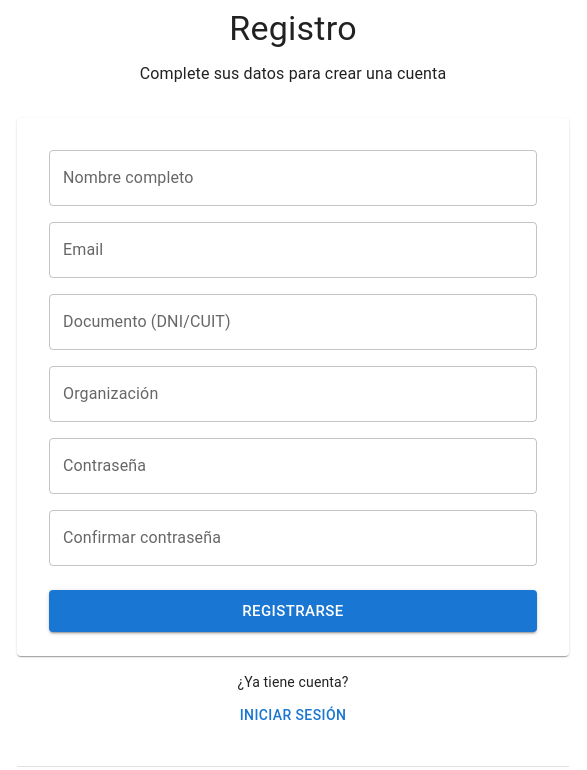
ExternoRegistroPage › confirmation must match
Type "Test User" into the field labelled "Nombre completo". click: point(293, 178)
box: [49,150,537,206]
Type "test@test.com" into the field labelled "Email". click: point(293, 250)
box: [49,222,537,278]
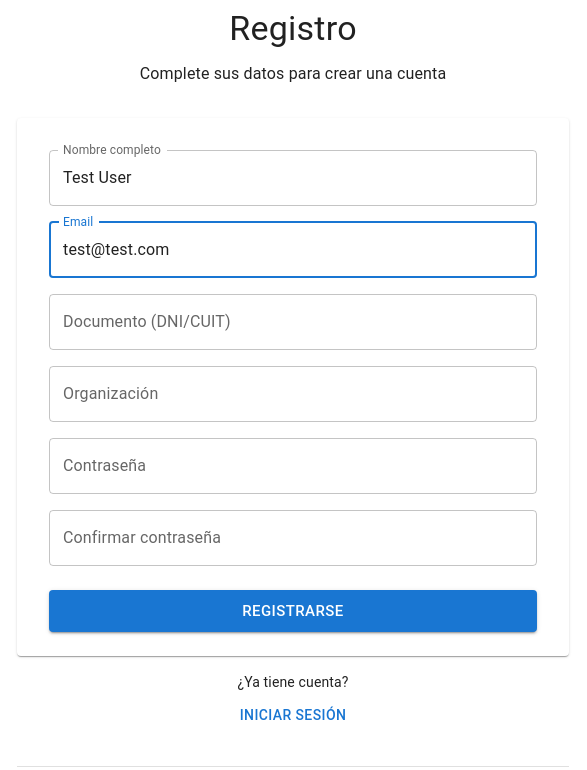
Type "12345678" into the field labelled "Documento (DNI/CUIT)". click: point(293, 322)
box: [49,294,537,350]
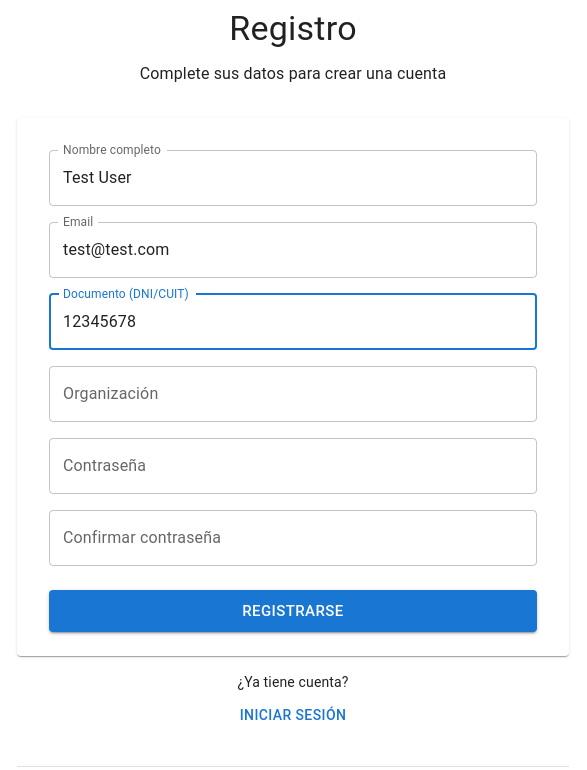
Type "Test Org" into the field labelled "Organización". click: point(293, 394)
box: [49,366,537,422]
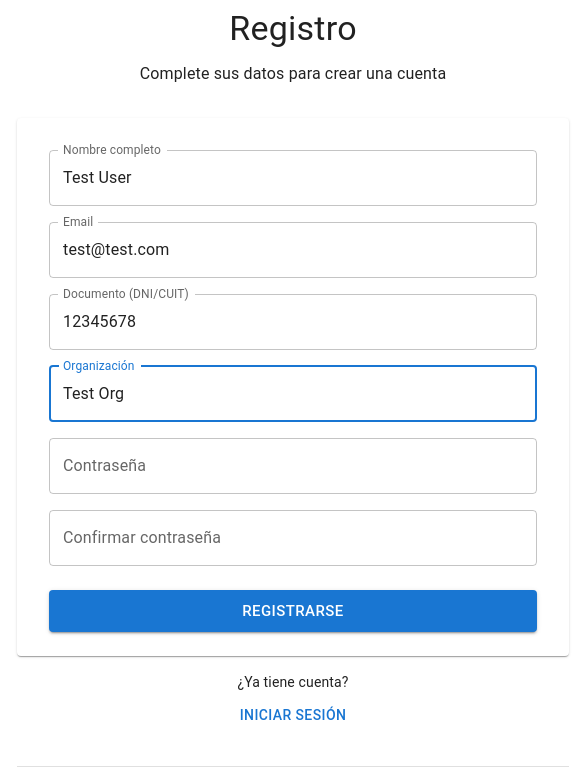
Type "Password1!" into the password field labelled "Contraseña". click: point(293, 466)
box: [49,438,537,494]
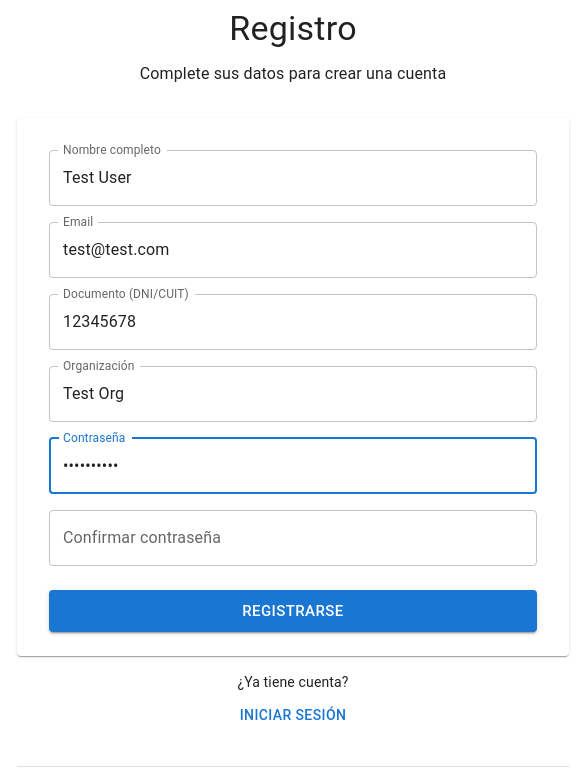
Type "Different1!" into the password field labelled "Confirmar contraseña". click: point(293, 538)
box: [49,510,537,566]
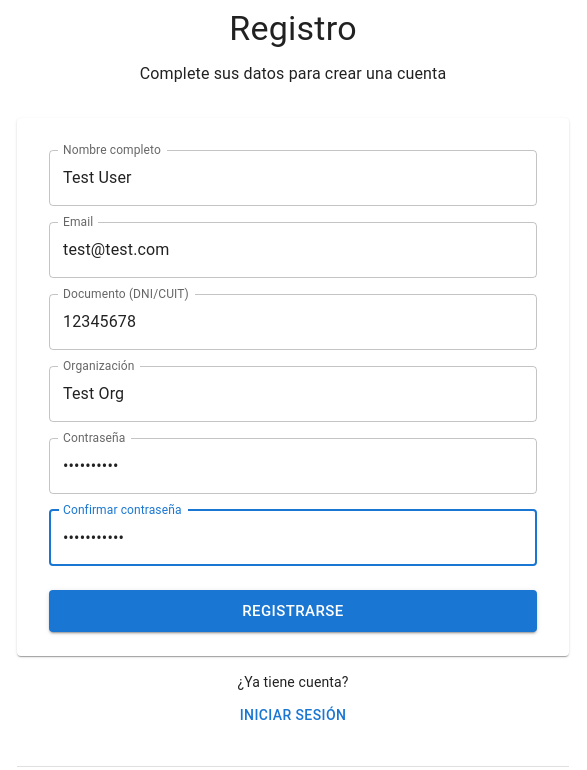
Click the button "Registrarse". click: point(293, 611)
box: [49,590,537,632]
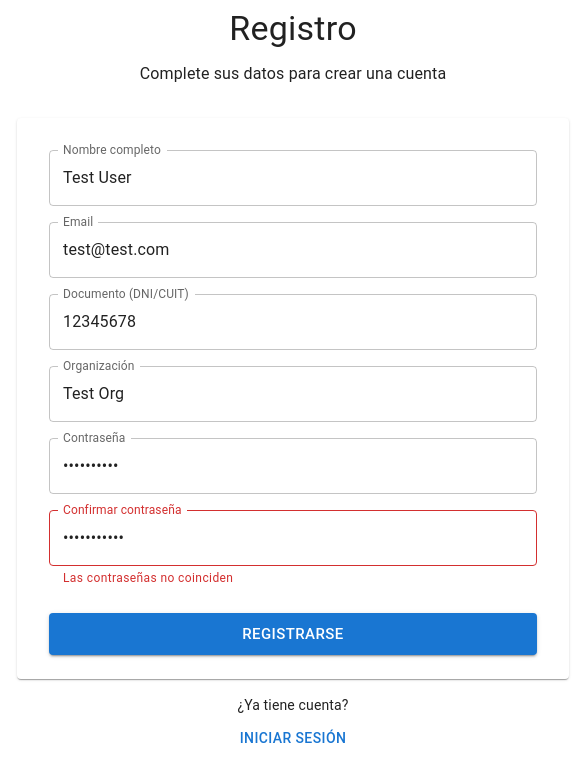
expect the text "Las contraseñas no coinciden" is shown: met, box [63,571,233,585]
